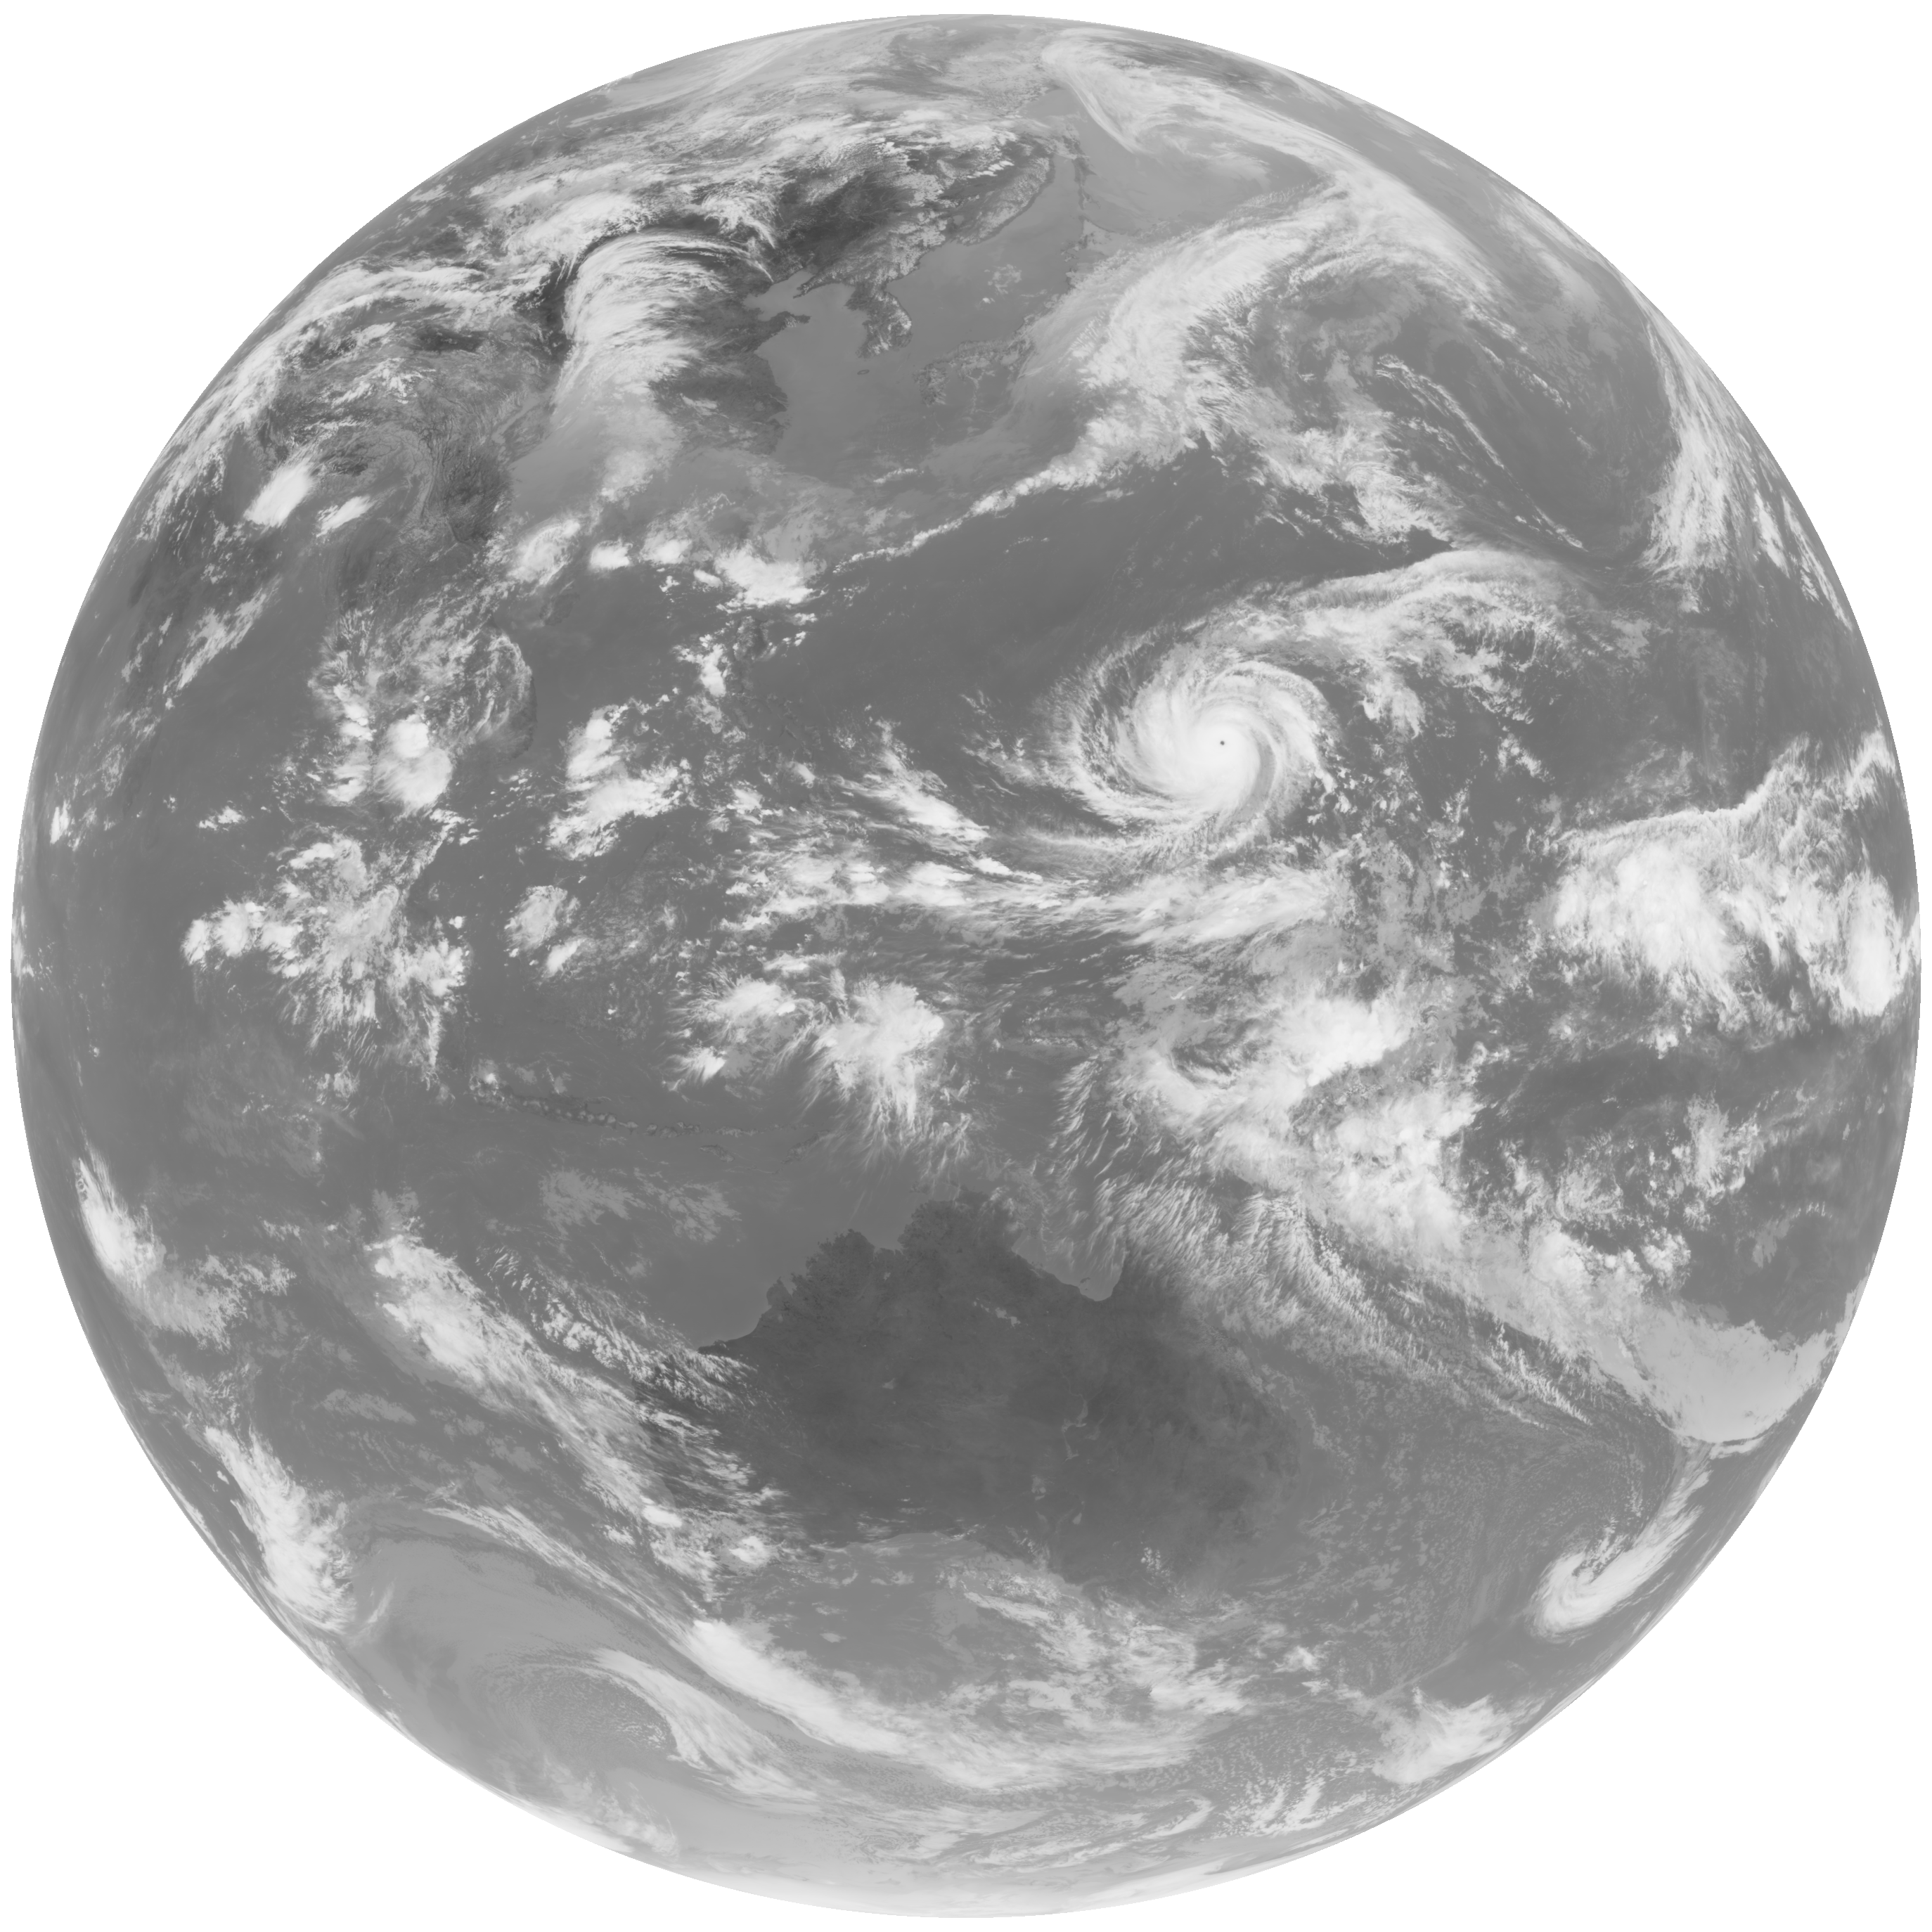typhoon: (901, 543, 1576, 920)
